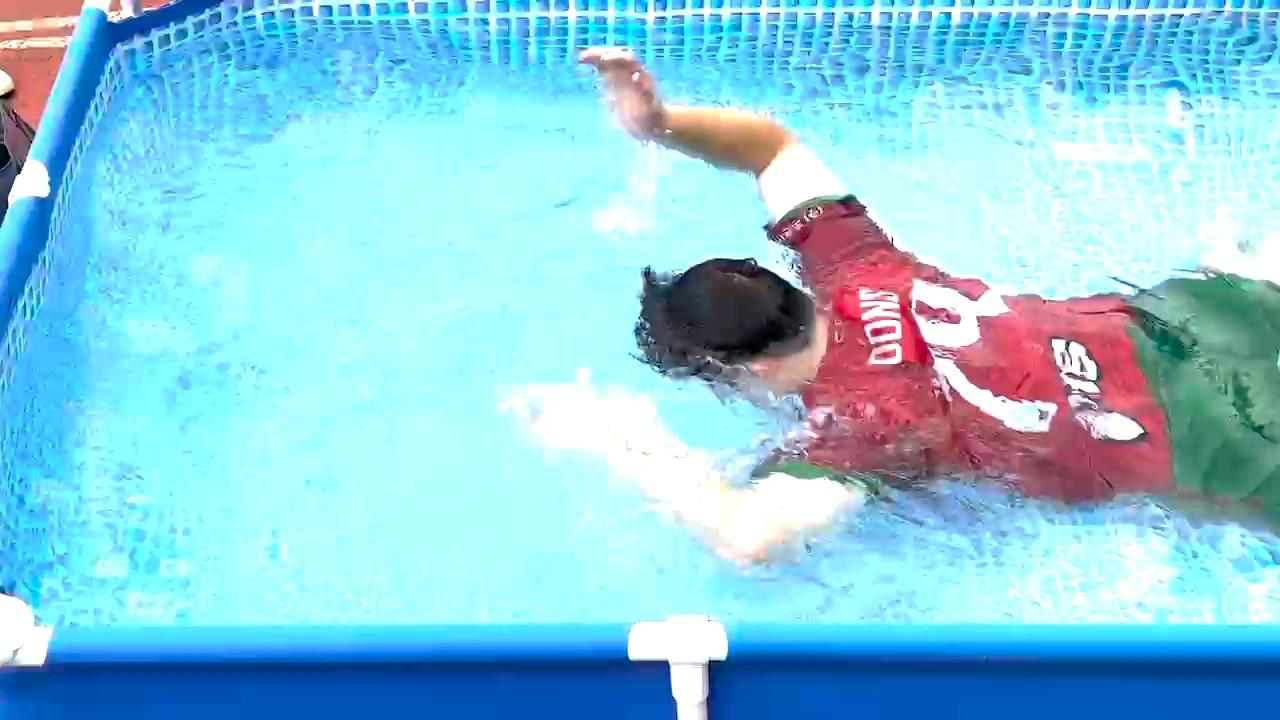Drowning: (450, 23, 1269, 585)
